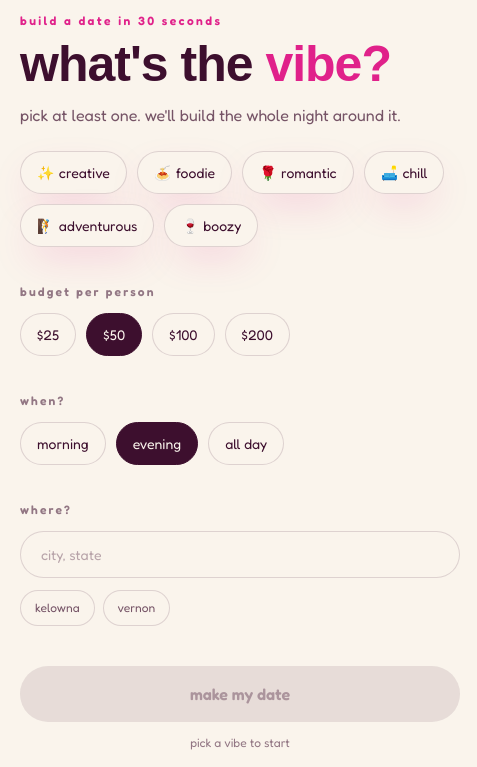
Scenario: CreateFlow city selector › a failed city POST shows a quiet notice but never disables the generate CTA
Click the button "✨creative": coordinates (73, 172) [20,150,127,194]
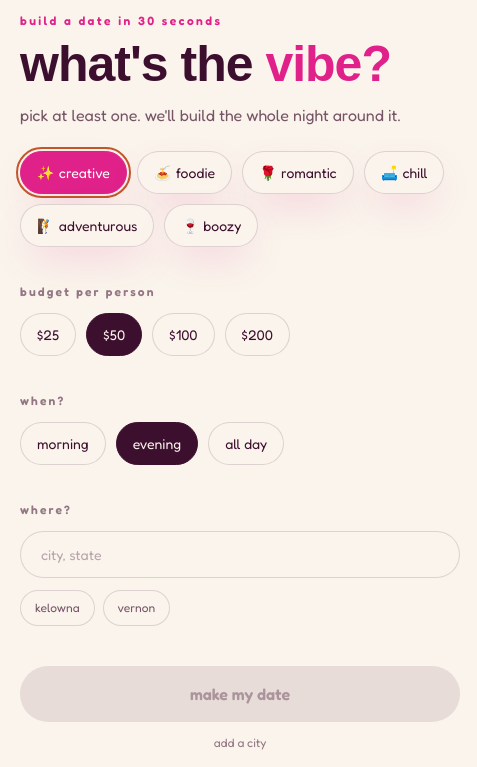
Click the button "kelowna": coordinates (57, 608) [20,590,95,626]
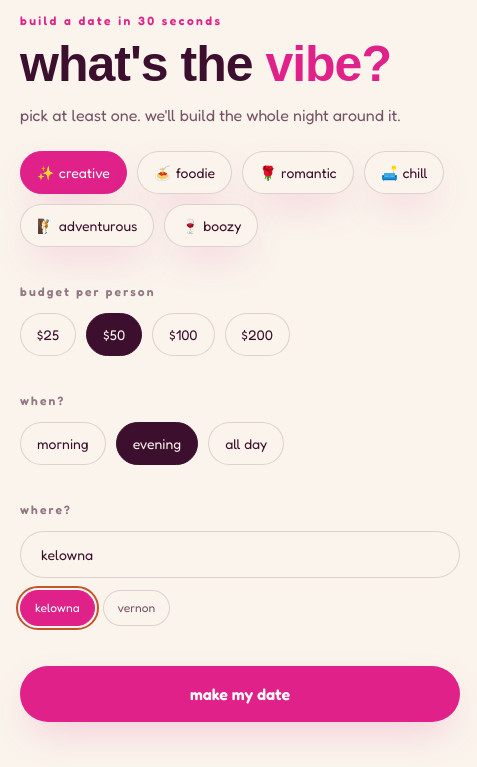
Result: the button "make my date" is enabled at [20,666,460,722]
